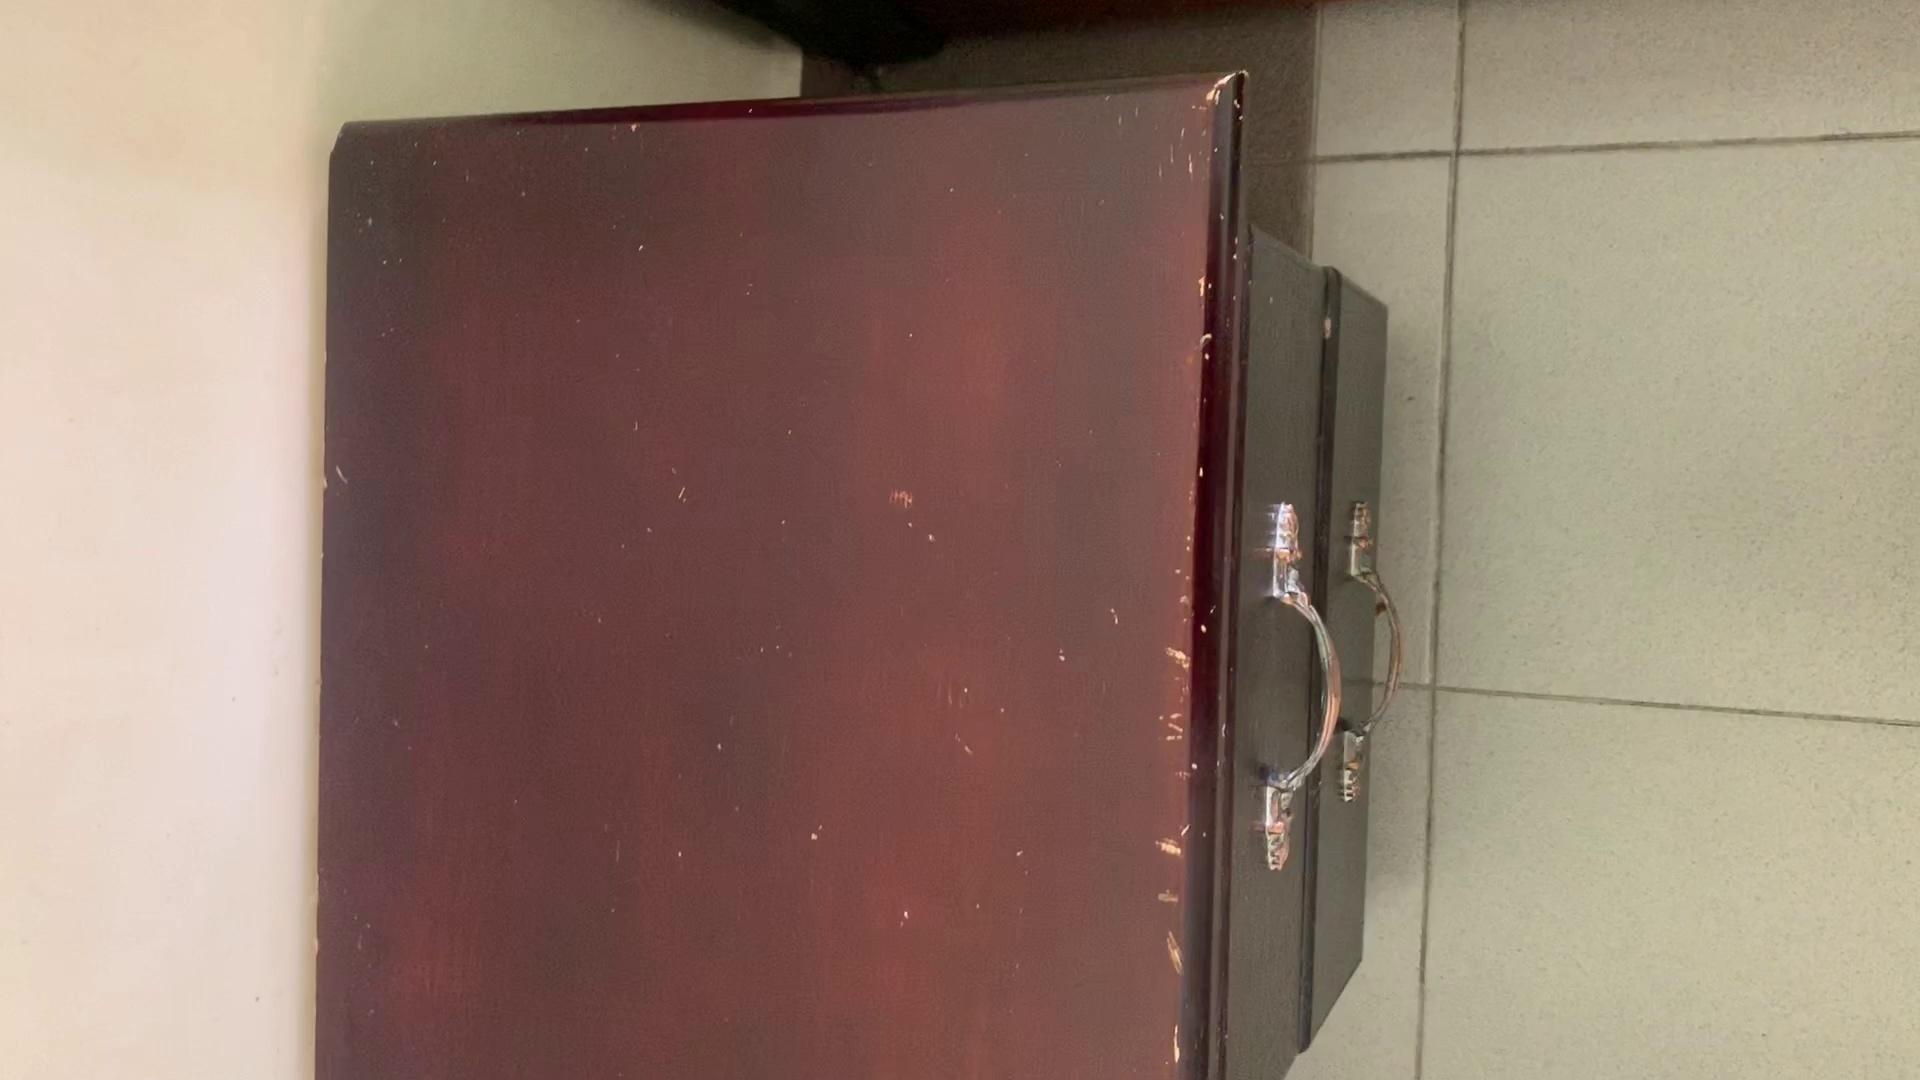cabinet_door: (1233, 260, 1316, 1079), (1319, 273, 1375, 1000)
handle: (1253, 492, 1350, 878), (1338, 500, 1407, 812)
